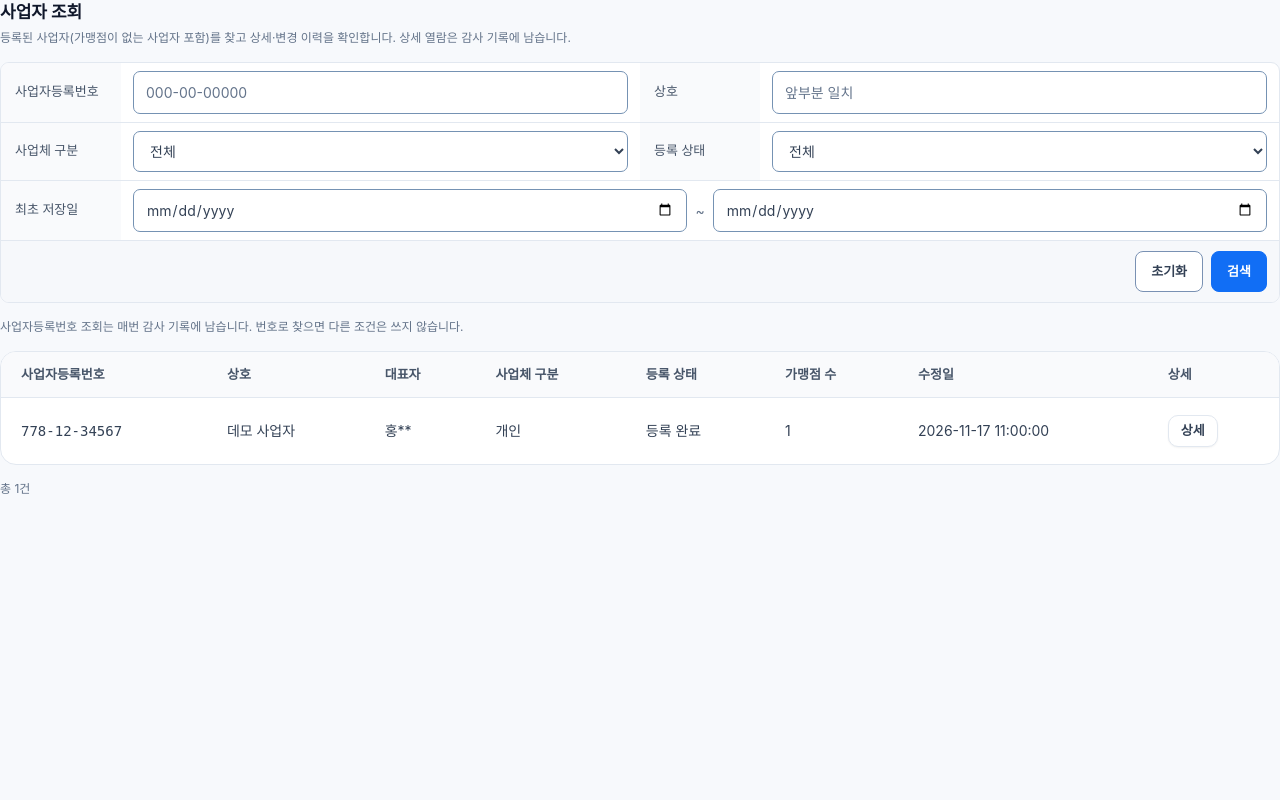
Test: MERCHANT-IA-001 B5 — 사업자 상세 편집 폼 › 조회 역할: 같은 배치(회사·대표자·담당자)의 읽기 표시 — 입력칸·저장 없음, 위쪽 목록으로
Step 1. Click the button with aria-label "데모 사업자 상세" → click(1193, 431), box x1=1168 y1=415 x2=1218 y2=447
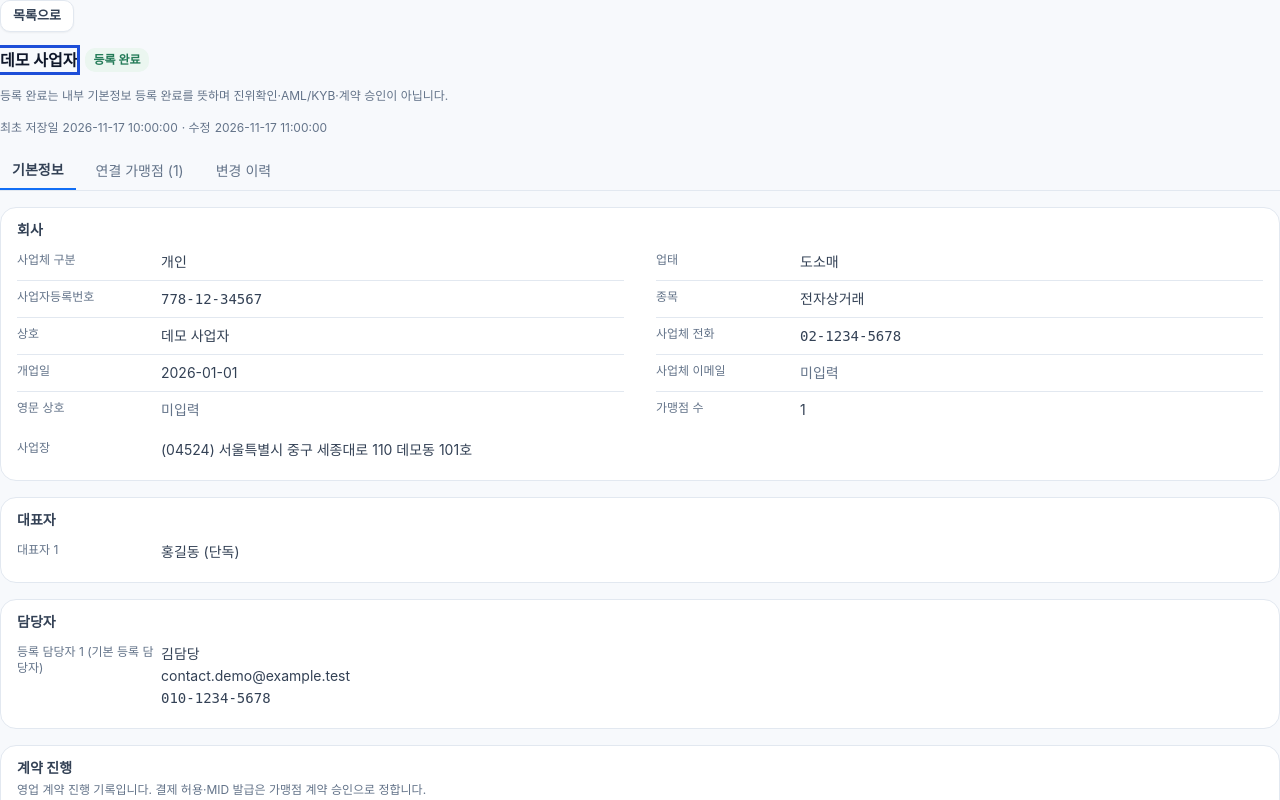
expect the text "사업자등록번호" is shown: met, box x1=17 y1=289 x2=94 y2=304
expect the button "목록으로" is shown: met, box x1=0 y1=0 x2=74 y2=32
